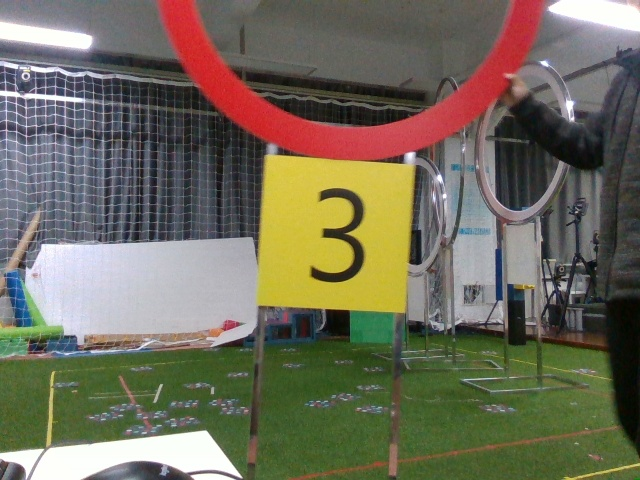target: (260, 163, 407, 307)
